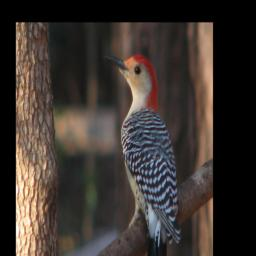Woodpecker: (101, 52, 181, 256)
